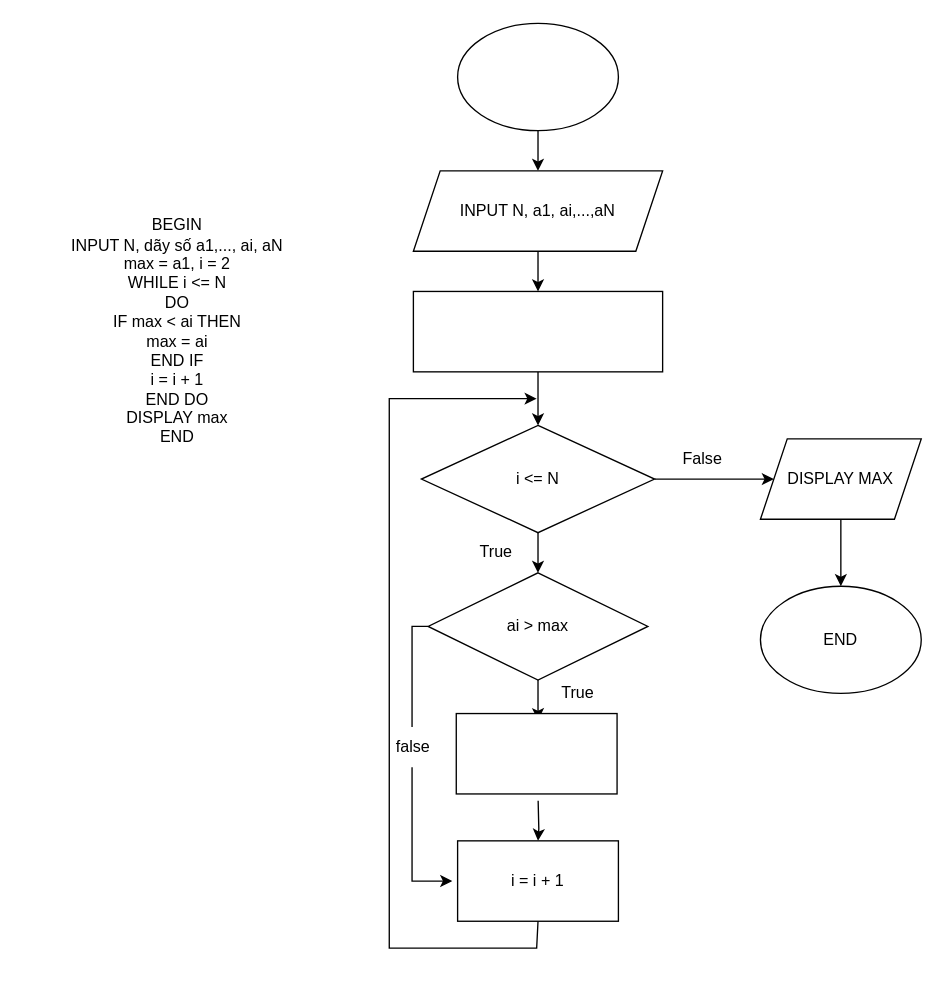
The diagram is 945 pixels wide and 982 high, and some of its shapes have lost their labels. The centre of each missing label's shape, as x and y in pixels:
"BEGIN" goes at (537,76).
"max = a1, i = 2" goes at (537,331).
"max = ai" goes at (536,753).
